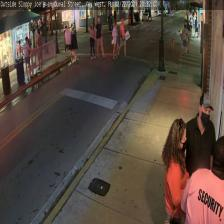person: (178, 92, 216, 224), (180, 135, 224, 223), (161, 117, 188, 223)
